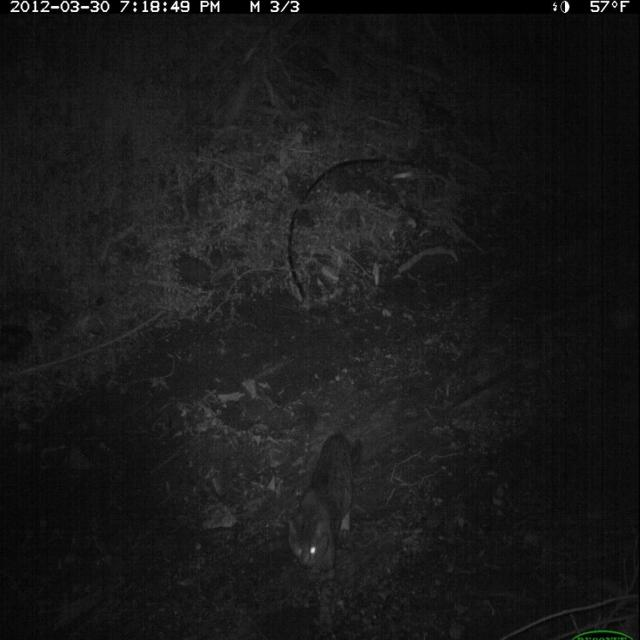cat: (282, 424, 369, 637)
